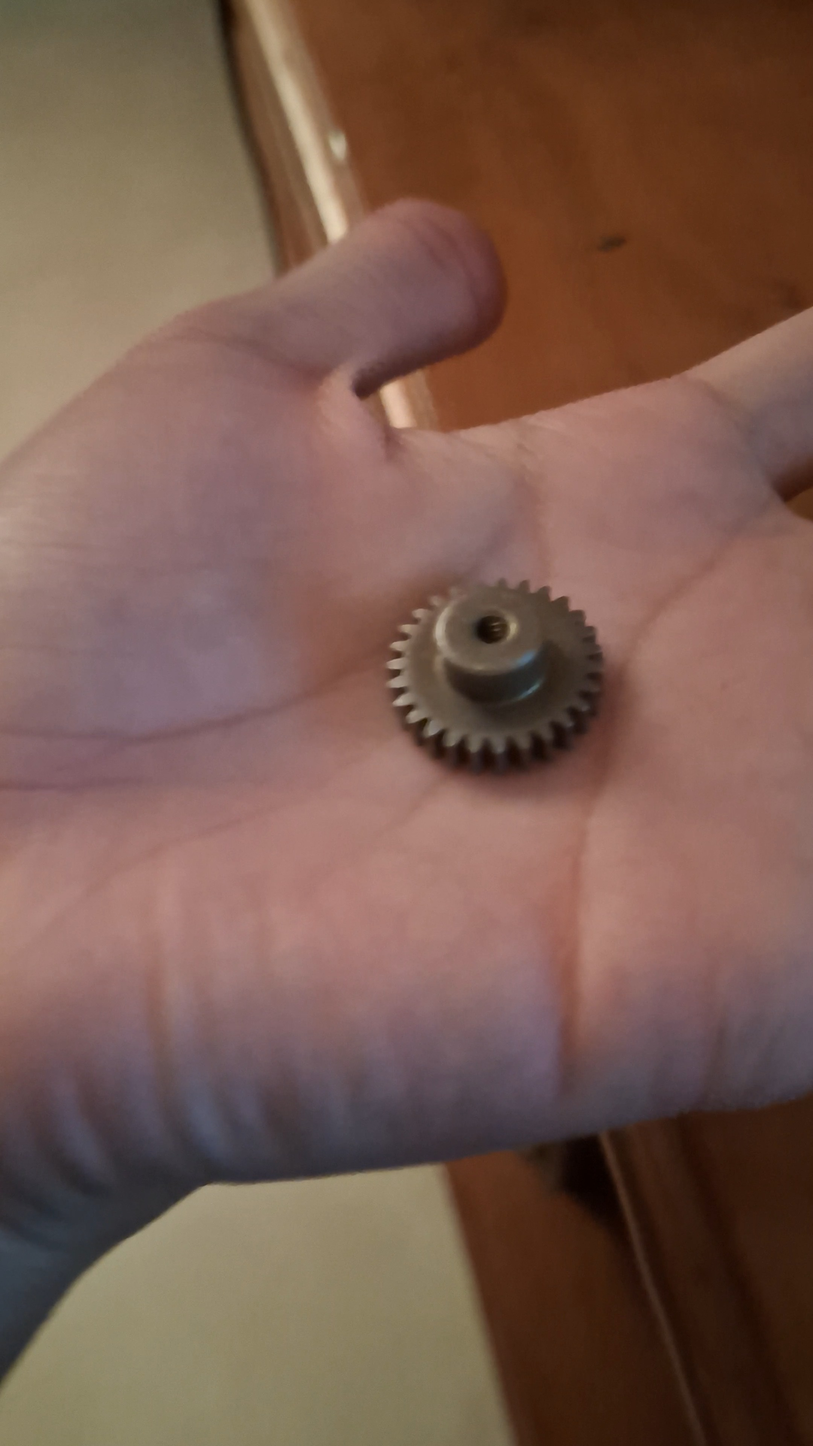spur gear: (388, 581, 601, 770)
